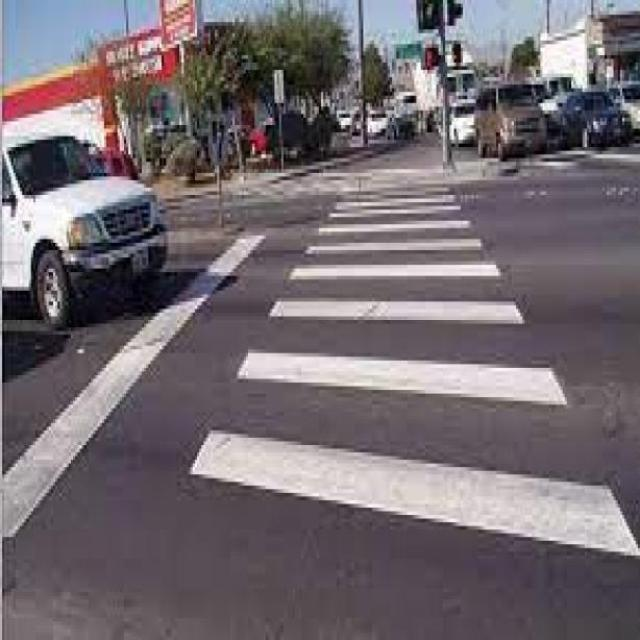pedestrian lane: (190, 193, 639, 554)
